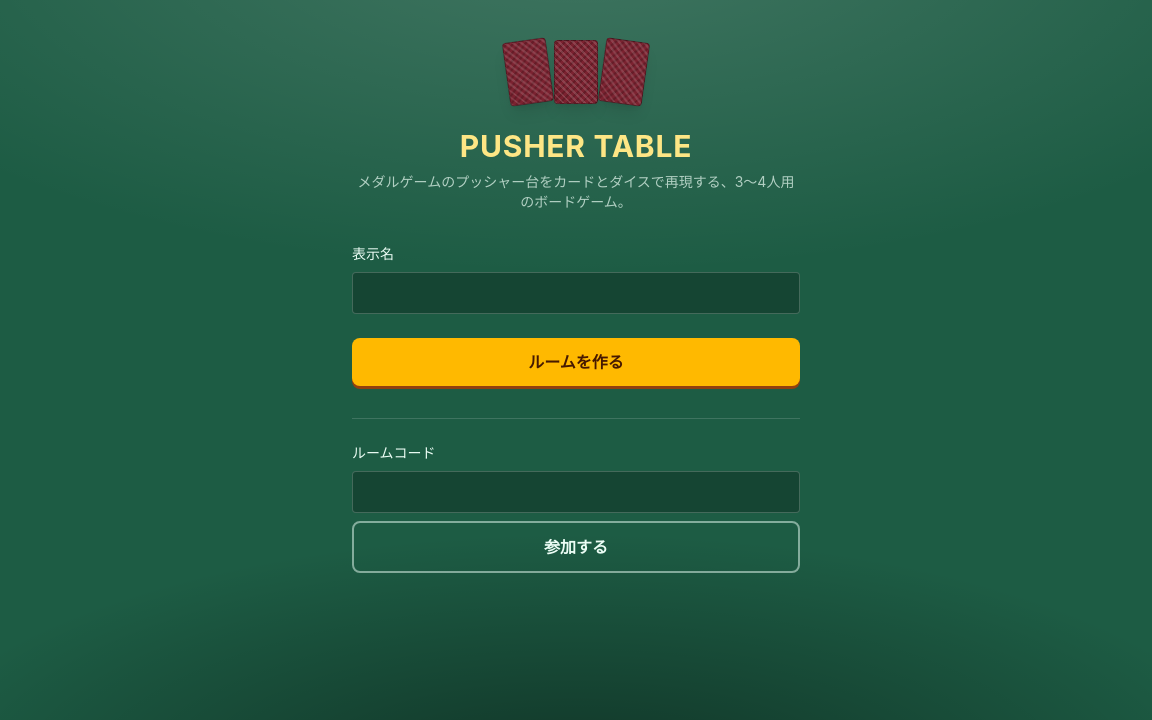
Scenario: トップ画面 › 表示名を入れずにルームを作ろうとすると知らせる
Click the button "ルームを作る".
click(576, 362)  # box [352,338,800,386]
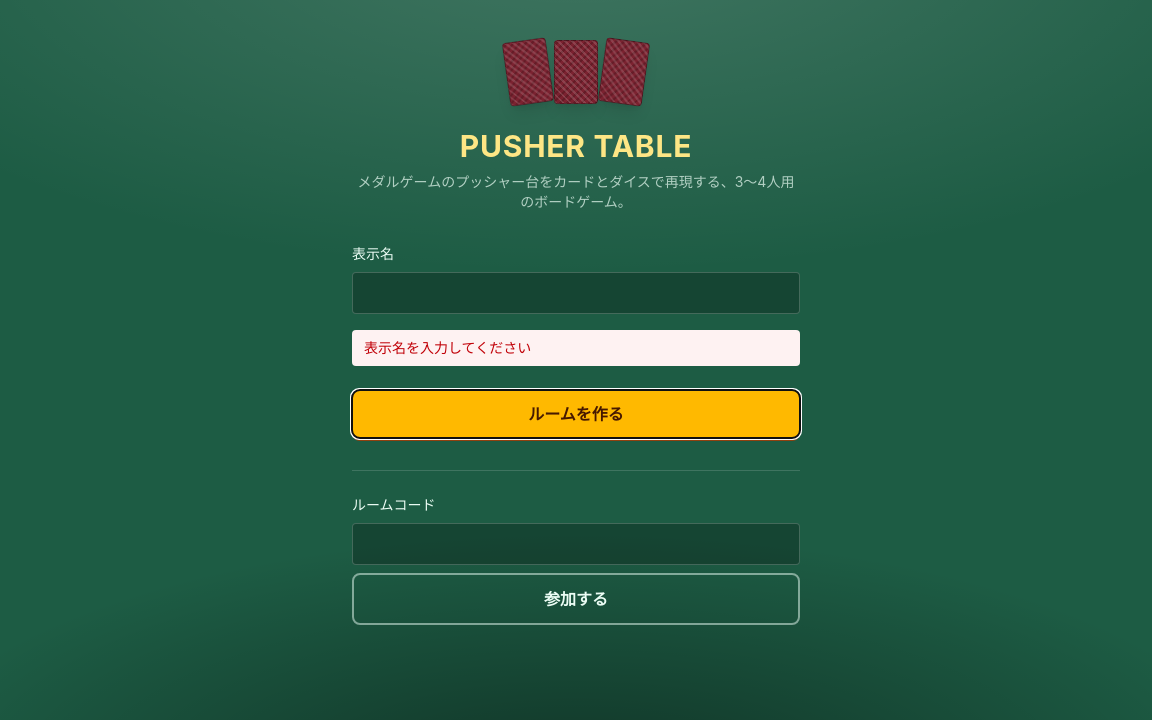
Expected: the text "表示名を入力してください" is shown, [352,330,800,366]
